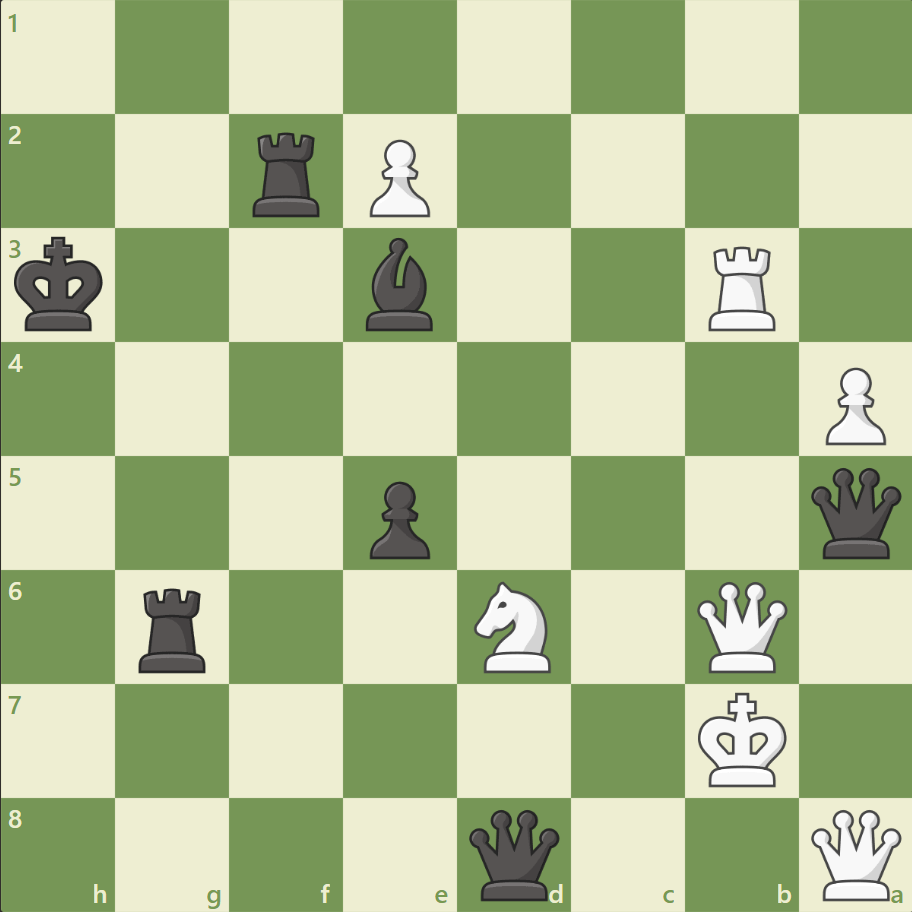K: (692, 685, 792, 793)
N: (465, 575, 562, 677)
P: (815, 359, 889, 450), (361, 132, 435, 223)
Q: (691, 576, 790, 676), (805, 804, 904, 903)
R: (700, 239, 783, 336)
b: (358, 233, 442, 336)
k: (11, 231, 111, 339)
p: (361, 473, 435, 564)
q: (464, 804, 563, 903), (805, 463, 904, 562)
r: (246, 125, 329, 222), (133, 579, 215, 676)
